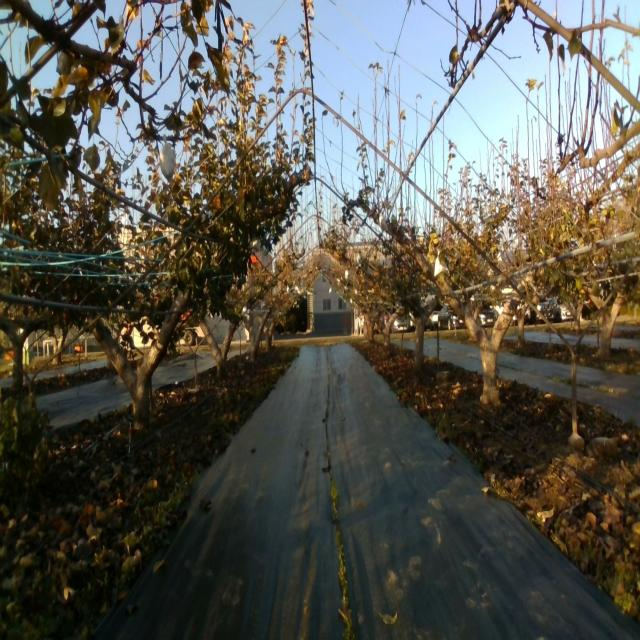pearbags: (158, 134, 176, 184), (433, 249, 449, 279), (378, 213, 389, 232)
